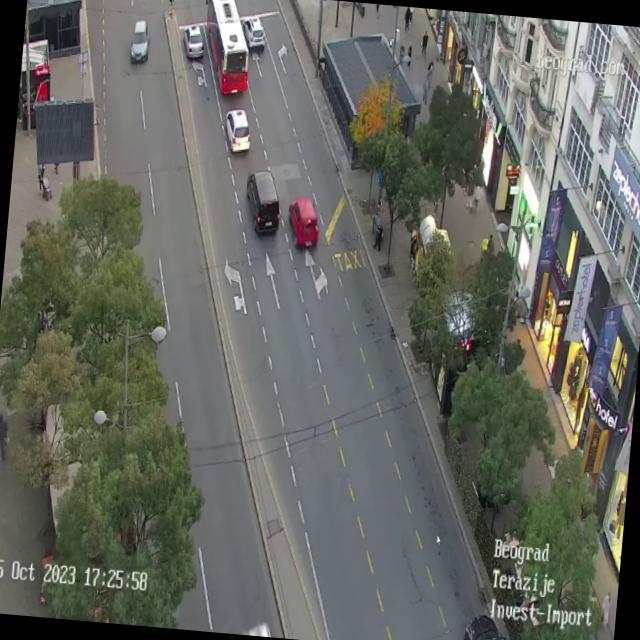bus: (198, 0, 254, 96)
car: (242, 168, 284, 235), (285, 195, 321, 250), (461, 612, 513, 640), (222, 106, 252, 154), (128, 19, 150, 64), (239, 15, 265, 51), (181, 23, 206, 60)
